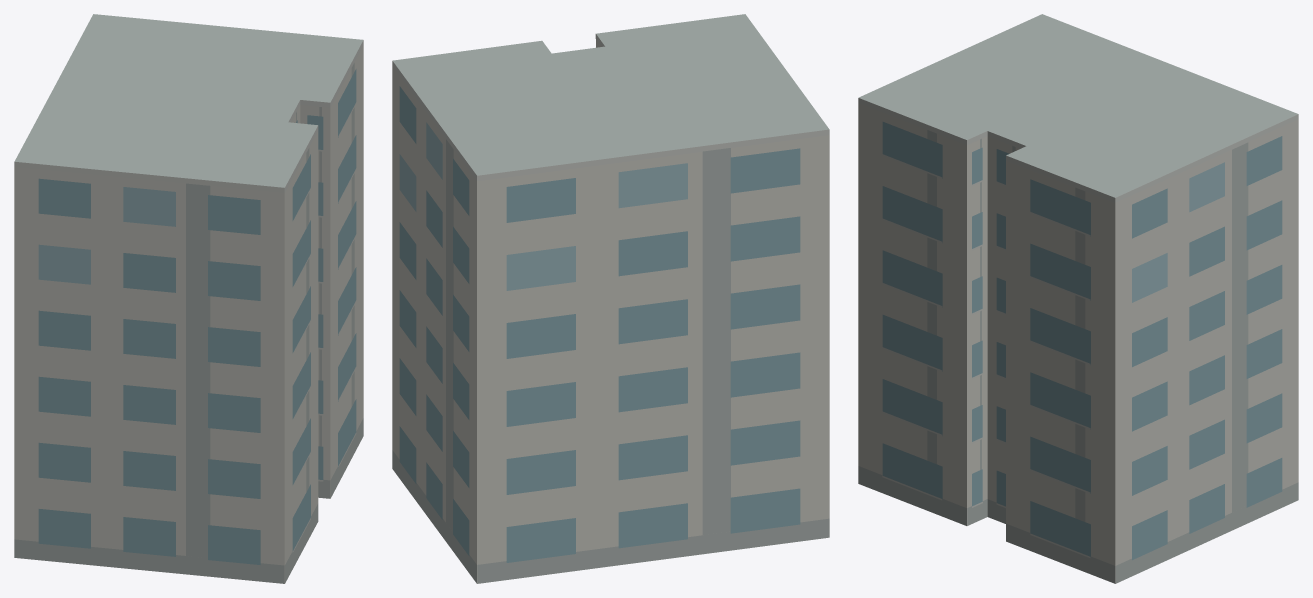
File: survey-upis-32883702.glb
3 views of the same model, side by side, from view 1: azimuth 30°, elevation 25°; view 2: azimuth 150°, elevation 25°; view 3: azimuth 270°, elevation 25° (orthographic). The views are drawn at different scales.
Parts seen in each view (by area): view 1: survey-upis-32883702.tmp; view 2: survey-upis-32883702.tmp; view 3: survey-upis-32883702.tmp.
Boxes of the visible parts, bbox=[...] form: survey-upis-32883702.tmp: bbox=[14, 14, 363, 583]; survey-upis-32883702.tmp: bbox=[392, 14, 829, 583]; survey-upis-32883702.tmp: bbox=[858, 14, 1298, 583].
Bounding box in the file's own units: 18.81 × 18.4 × 19.03.
